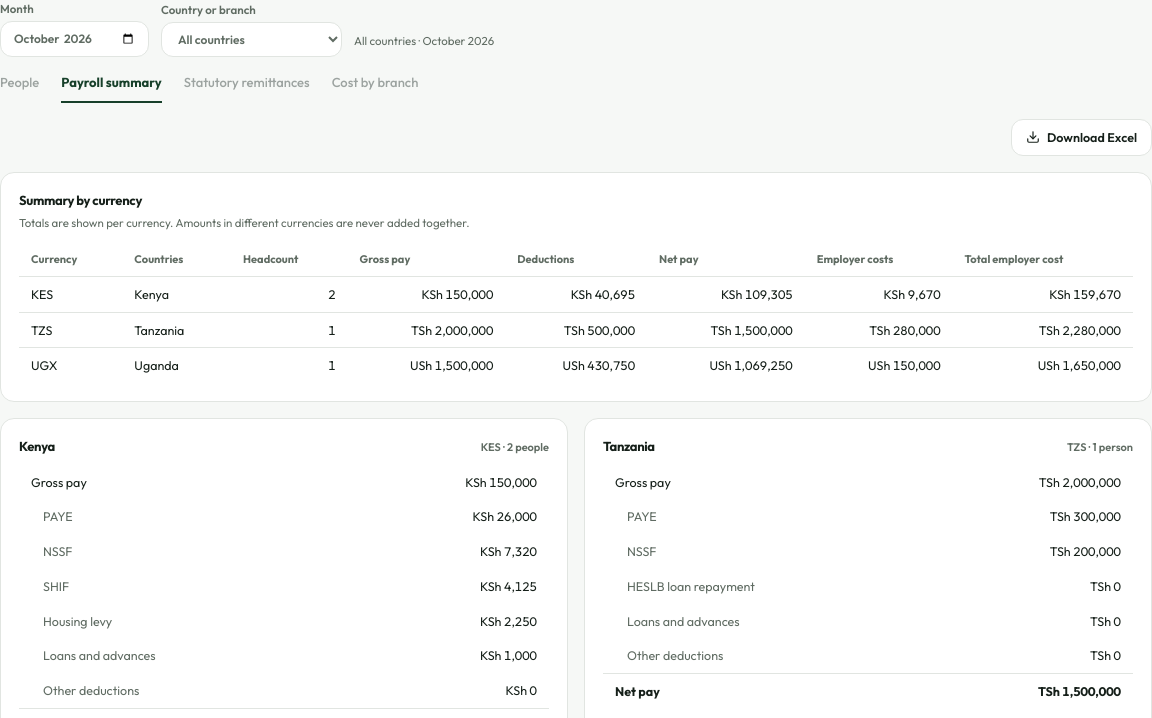
Test: the group report › narrows to a country with the filter
Select "Uganda" in the dropdown labelled "Country or branch": (252, 40) [161,22,342,57]
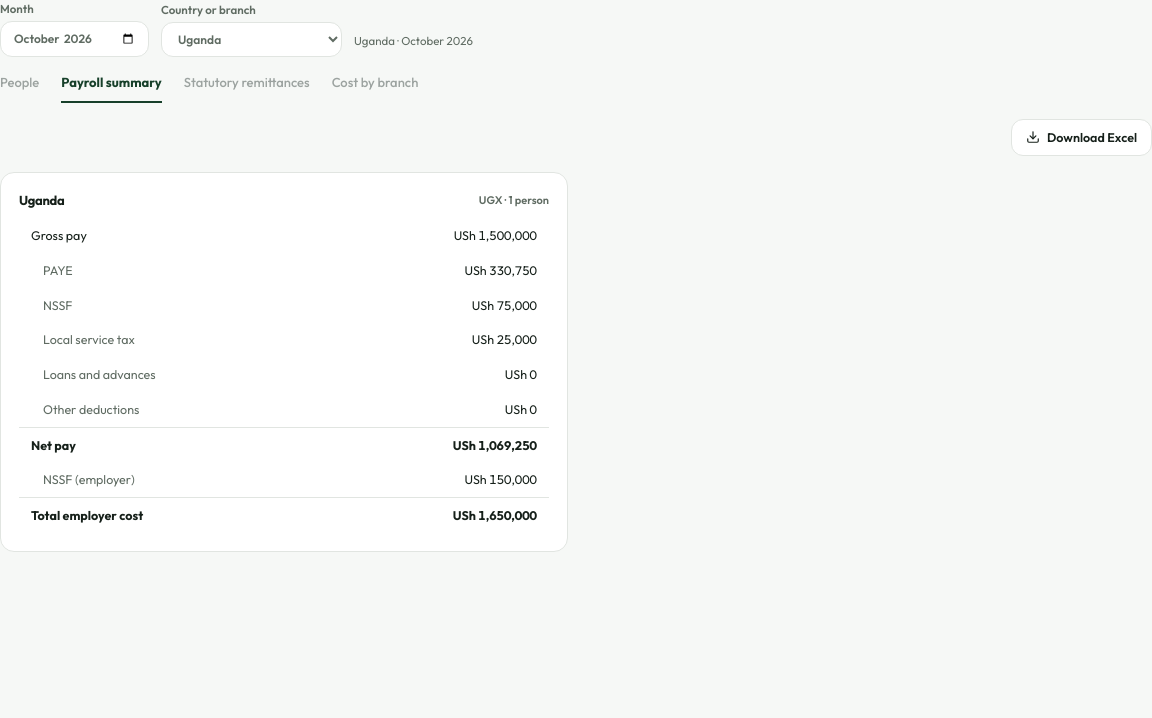
Expected: the element with test id "payroll-Uganda" is shown, [0,172,568,552]
Expected: the table with test id "currency-summary" is gone
